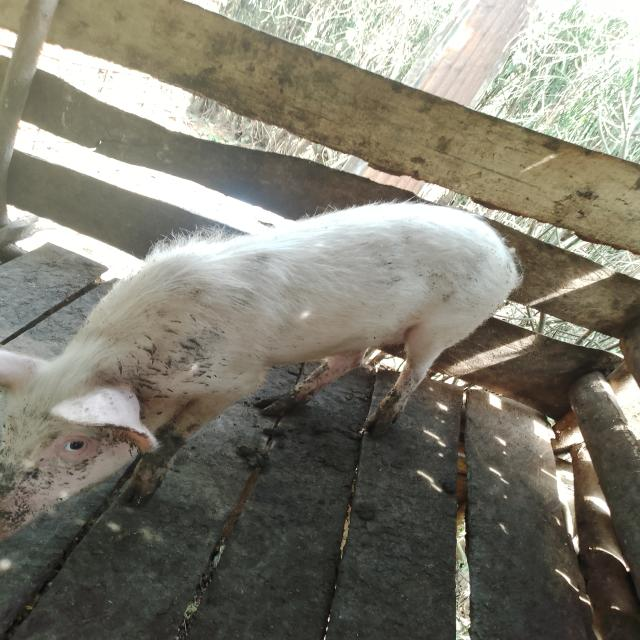pig: (0, 157, 524, 563)
